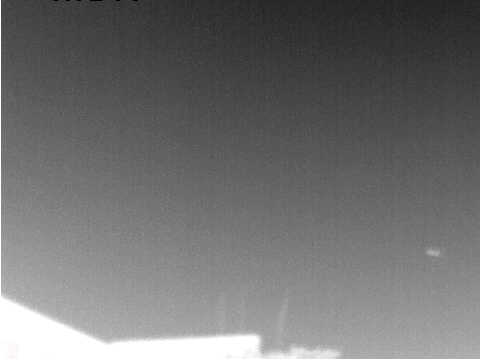dim target: (426, 247, 441, 258)
